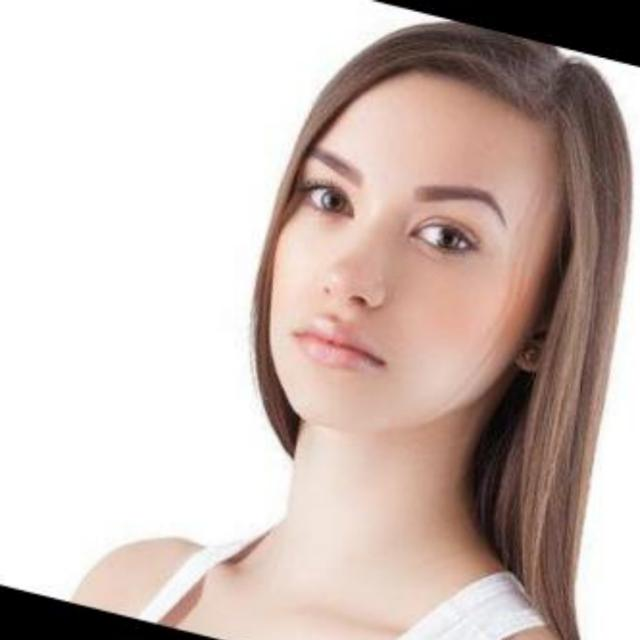Natural: (250, 92, 565, 455)
